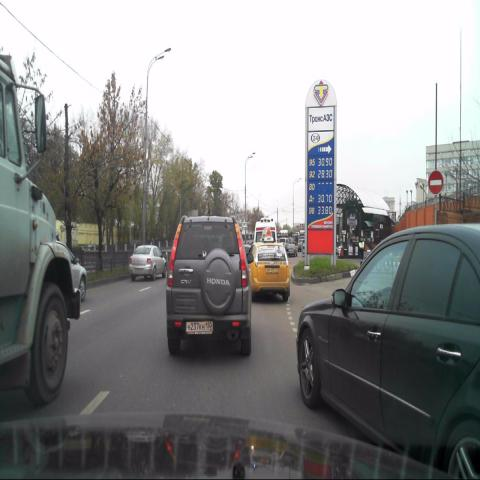3_1: (428, 170, 444, 195)
